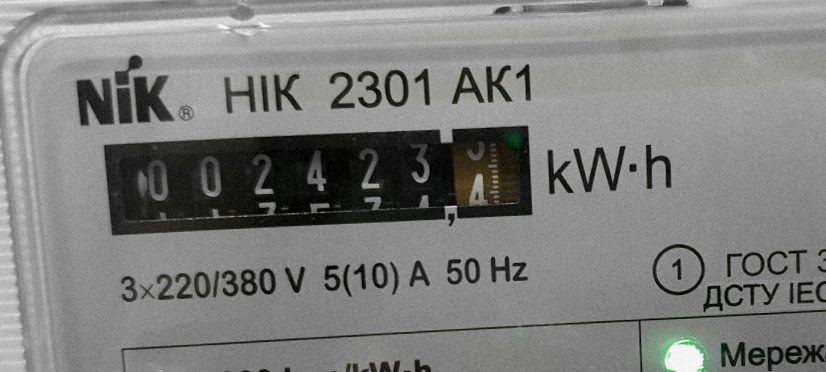0: (144, 155, 172, 204), (197, 153, 224, 199)
2: (249, 150, 276, 197), (356, 145, 382, 192)
3: (407, 140, 432, 186), (465, 138, 487, 162)
4: (303, 148, 328, 194), (464, 169, 490, 207)
screen: (92, 114, 547, 248)
